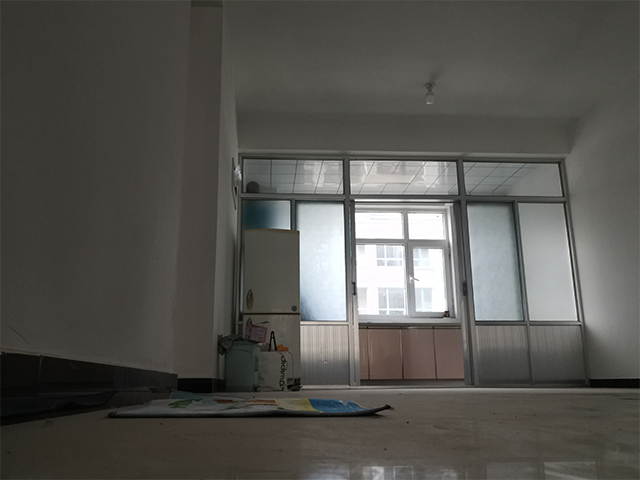cabinet: (355, 321, 468, 383)
carpet: (103, 393, 393, 419)
